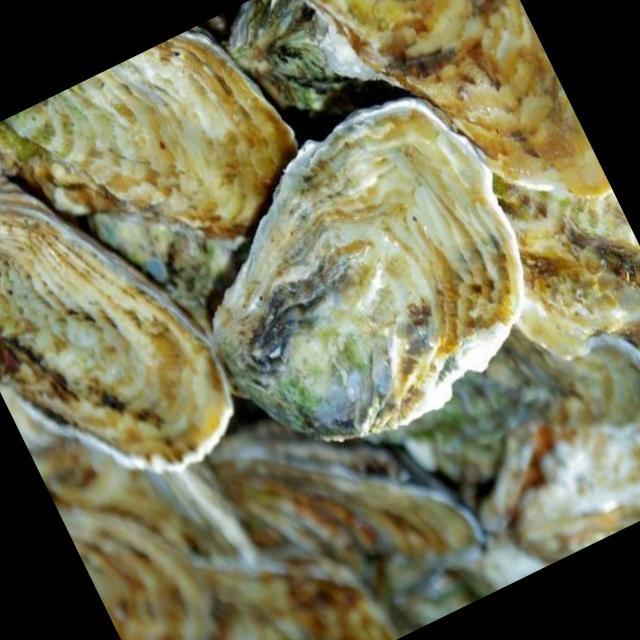Oyster-Closed: (211, 99, 527, 442), (0, 170, 234, 470), (0, 29, 300, 239), (2, 389, 256, 636), (304, 1, 614, 200), (57, 502, 401, 640), (202, 456, 486, 588), (480, 331, 640, 561), (56, 463, 238, 640)
